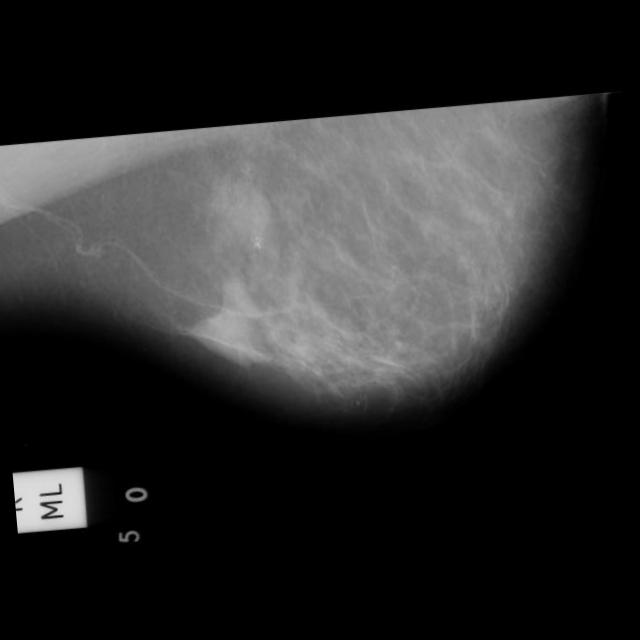CALC: (250, 234, 264, 248)
